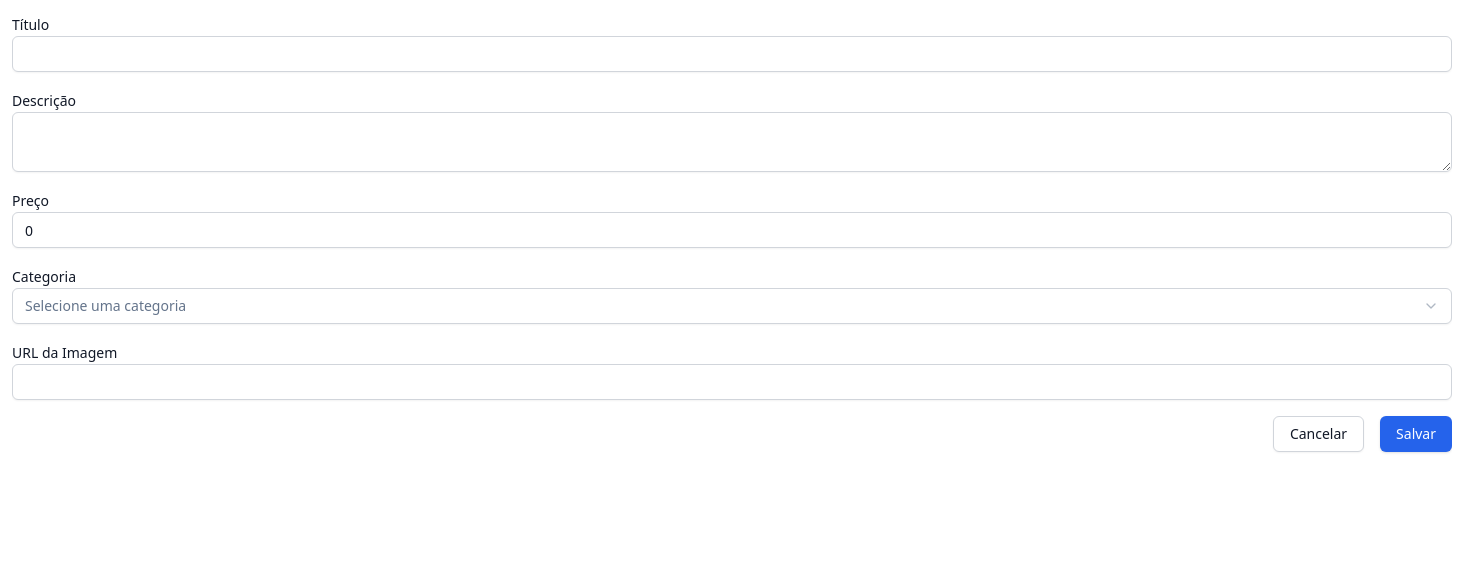
it: ProductForm › shows validation errors when submitting an empty form
Click the button "Salvar". click: (1416, 434)
box: [1380, 416, 1452, 452]
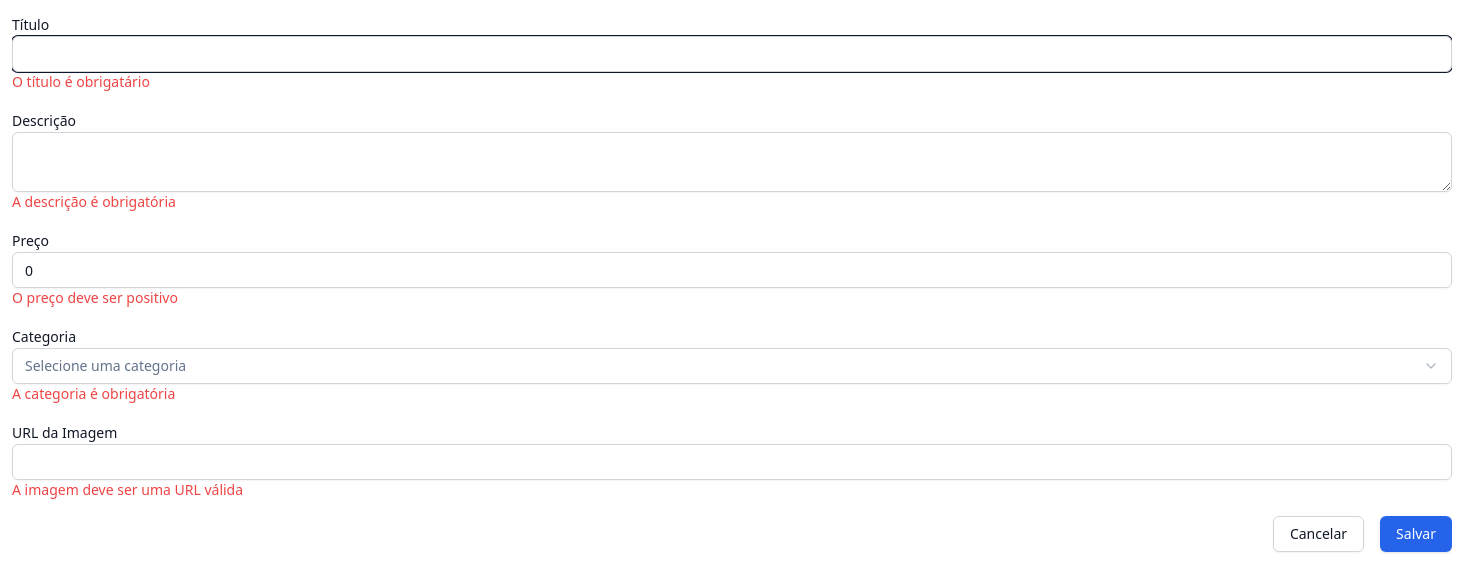
Check: the number of messages is 5, box [12, 72, 150, 91]; [12, 192, 176, 211]; [12, 288, 178, 307]; [12, 384, 175, 403]; [12, 480, 243, 499]
Check: the message "O título é obrigatário" is shown, box [12, 72, 150, 91]
Check: the message "A descrição é obrigatória" is shown, box [12, 192, 176, 211]
